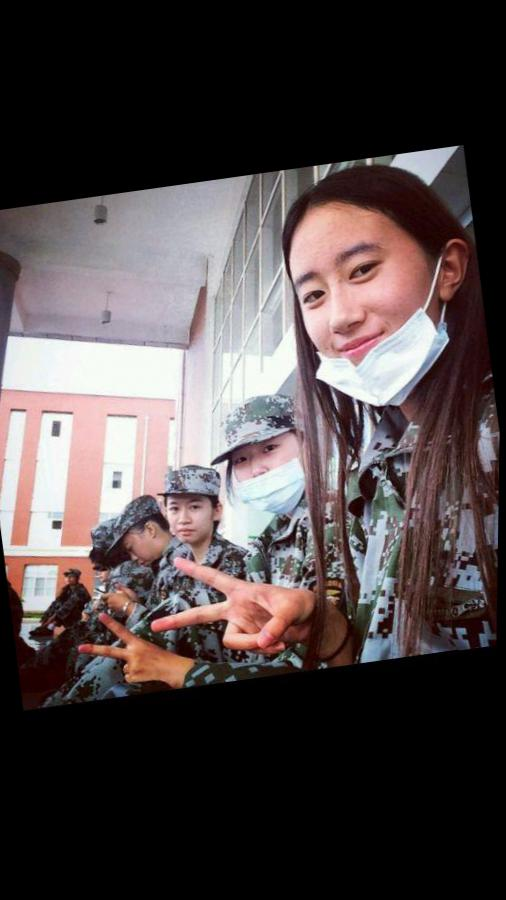NONE: (168, 496, 221, 548), (124, 521, 166, 568)
WRONG: (282, 230, 443, 402), (230, 432, 312, 521)
